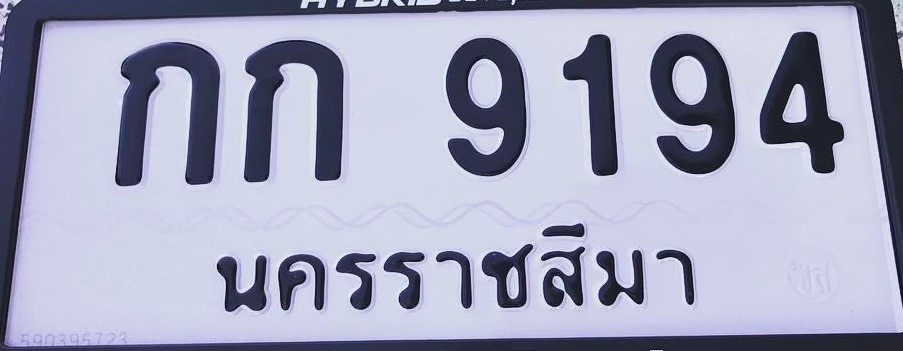txt01: (107, 38, 224, 188), (235, 38, 349, 185)
